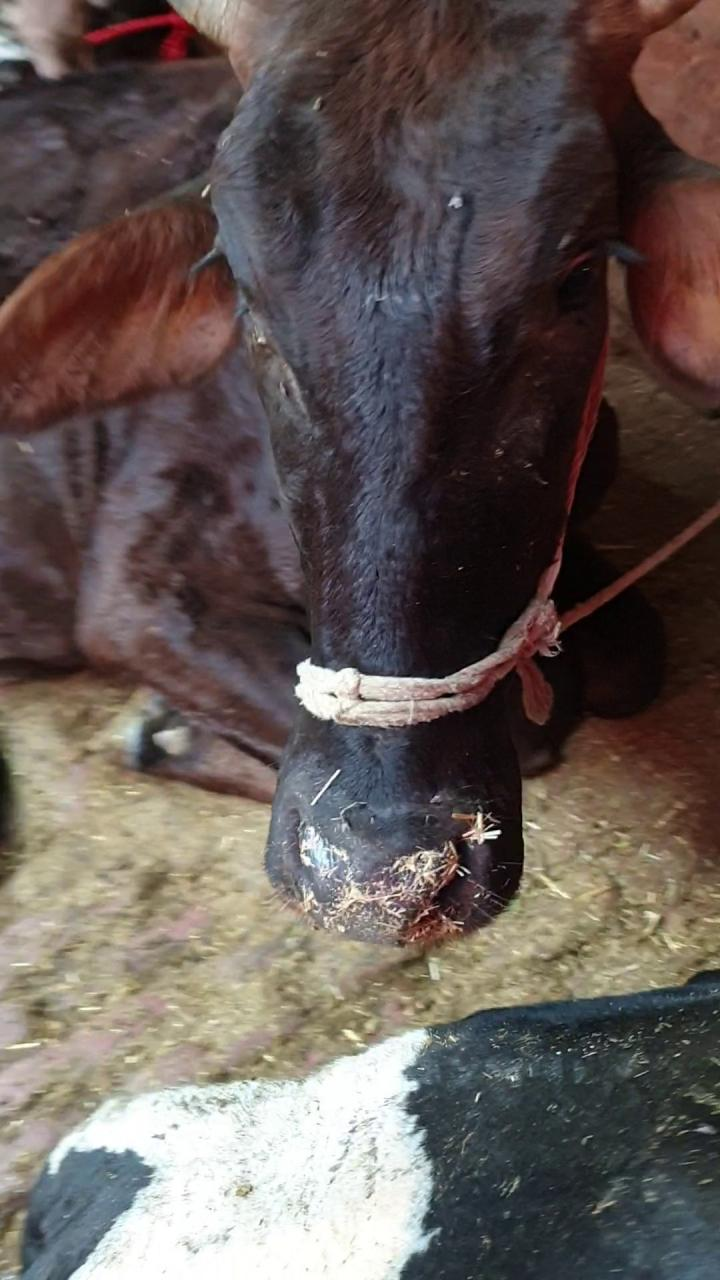cows: (193, 0, 632, 970)
